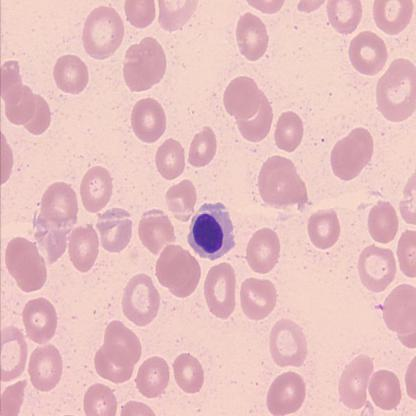NRC: (186, 200, 237, 262)
